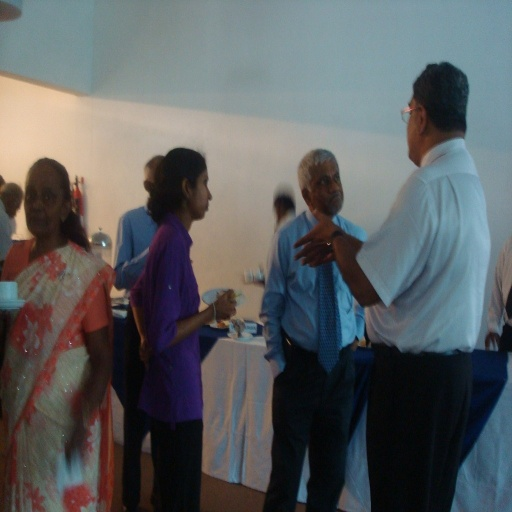hand: (292, 205, 340, 271), (200, 285, 240, 332), (63, 416, 88, 460), (300, 246, 336, 269), (484, 332, 502, 352)
